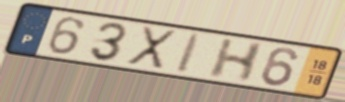3: (87, 22, 131, 63)
6: (257, 46, 301, 88), (47, 16, 87, 56)
H: (205, 37, 268, 84)
I: (173, 31, 205, 76)
X: (124, 24, 180, 72)
